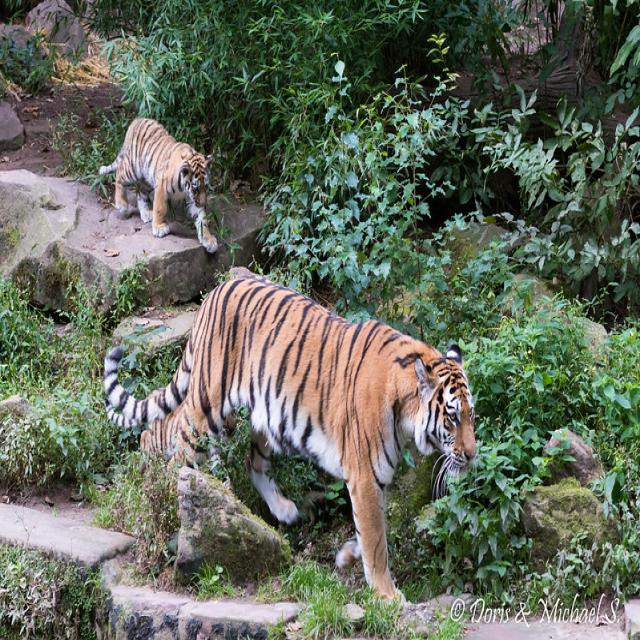Tiger: (98, 275, 476, 602), (97, 114, 219, 249)
